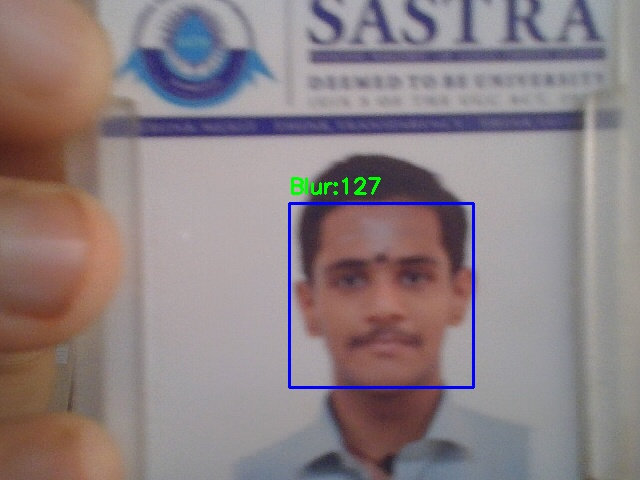fake: (289, 203, 473, 387)
